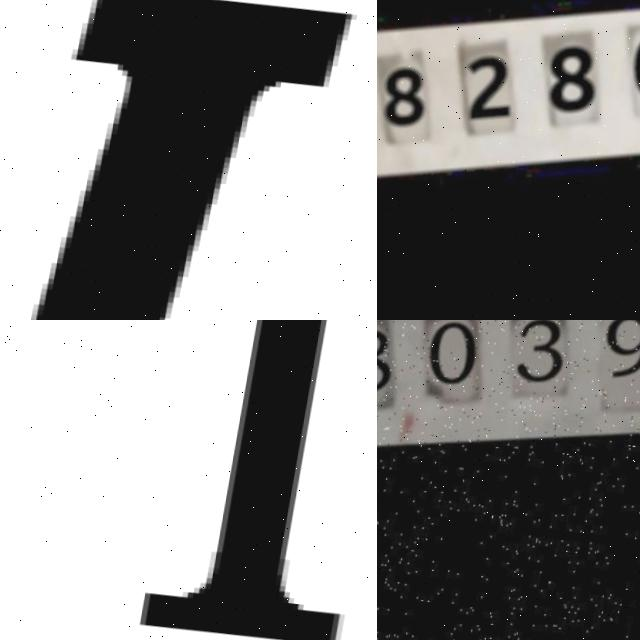0: (408, 320, 493, 405), (613, 12, 640, 116)
2: (447, 35, 526, 133)
3: (497, 320, 580, 401)
8: (527, 23, 616, 132), (377, 43, 442, 142), (377, 320, 410, 411)
9: (585, 320, 640, 402)
I: (32, 0, 352, 320)
T: (0, 320, 377, 640)
